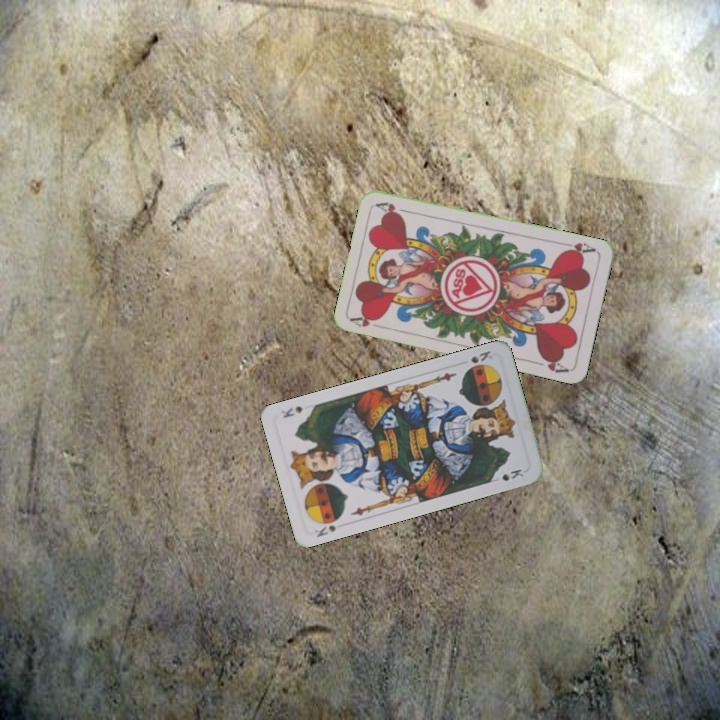HA: (347, 311, 388, 331), (558, 238, 598, 258)
SK: (467, 347, 495, 366), (310, 521, 338, 540)
